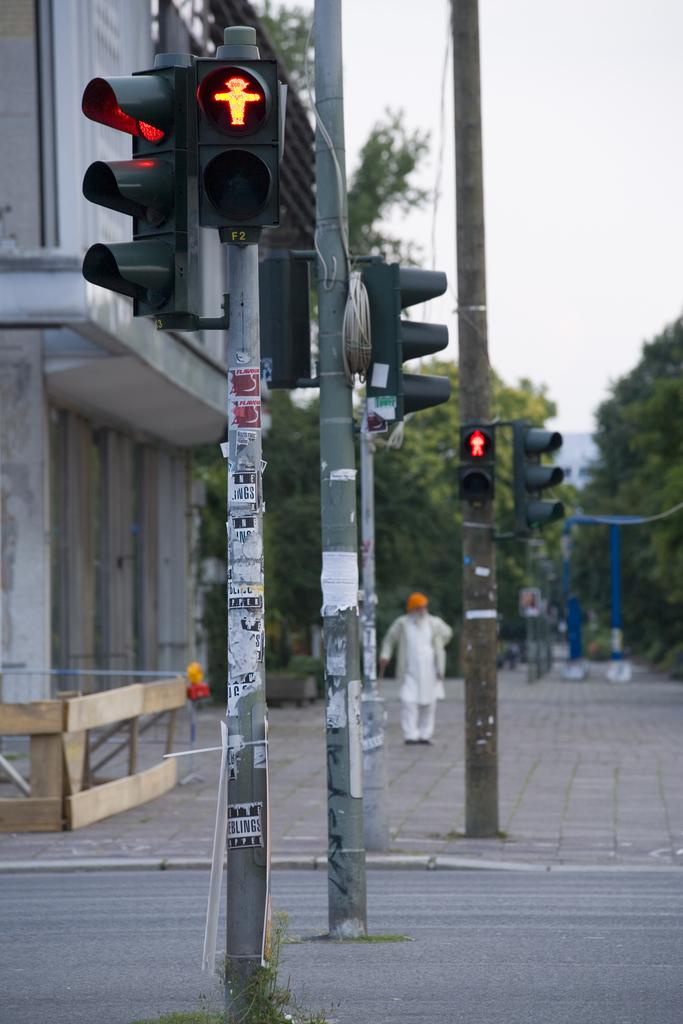red_light: (83, 56, 201, 329)
